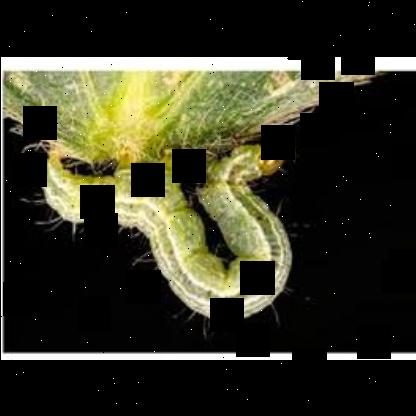oruga: (29, 124, 312, 332)
